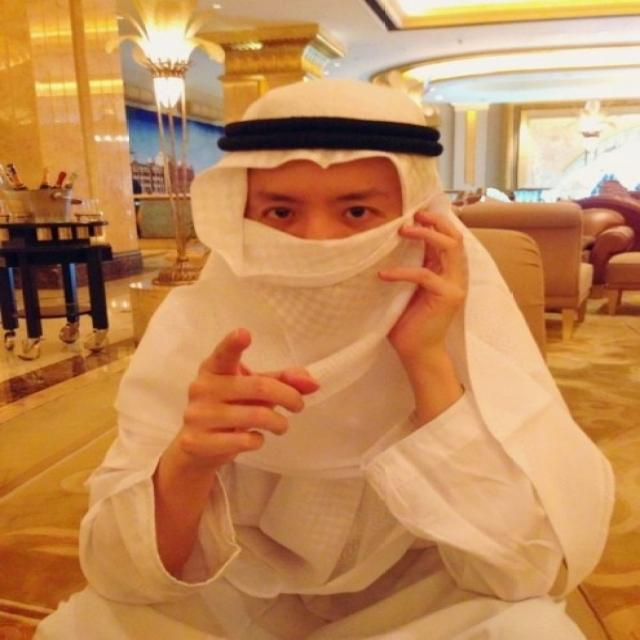mask: (234, 142, 407, 343)
